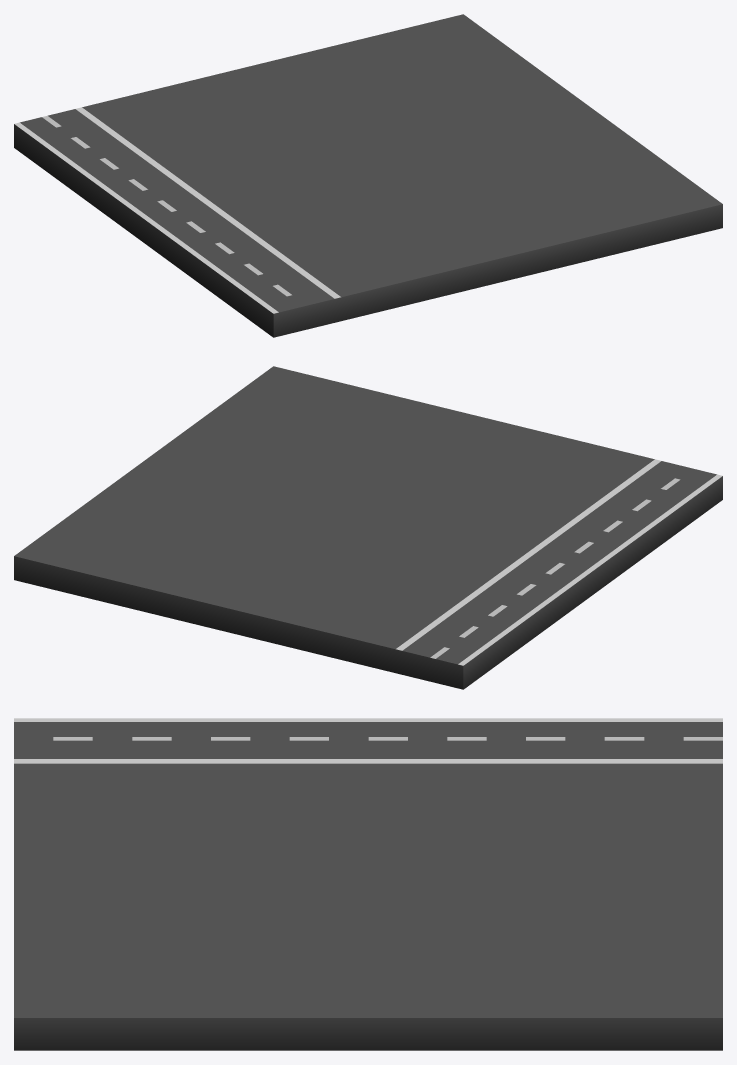
Rendered from road.fbx.
3 views of the same model, one above another, from view 1: azimuth 30°, elevation 25°; view 2: azimuth 150°, elevation 25°; view 3: azimuth 270°, elevation 25° (orthographic). The views are drawn at different scales.
Parts seen in each view (by area): view 1: Cube.001; view 2: Cube.001; view 3: Cube.001.
Boxes of the visible parts, x1,y1,x2,y2 form: Cube.001: [14, 14, 722, 337]; Cube.001: [14, 366, 722, 689]; Cube.001: [14, 718, 722, 1050].
Bounding box in the file's own units: 146 × 7.45 × 146.
Materials: 1 (1 with a texture image).
